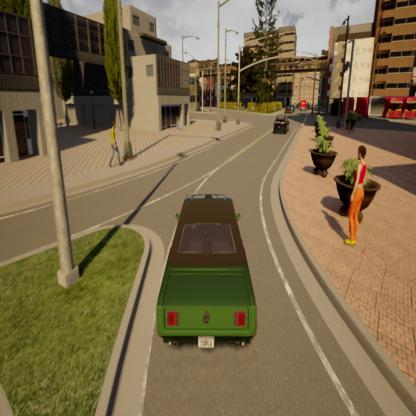Cars: (157, 194, 258, 352), (274, 113, 290, 134)
Pedestrian: (344, 144, 367, 246), (108, 119, 121, 168)
